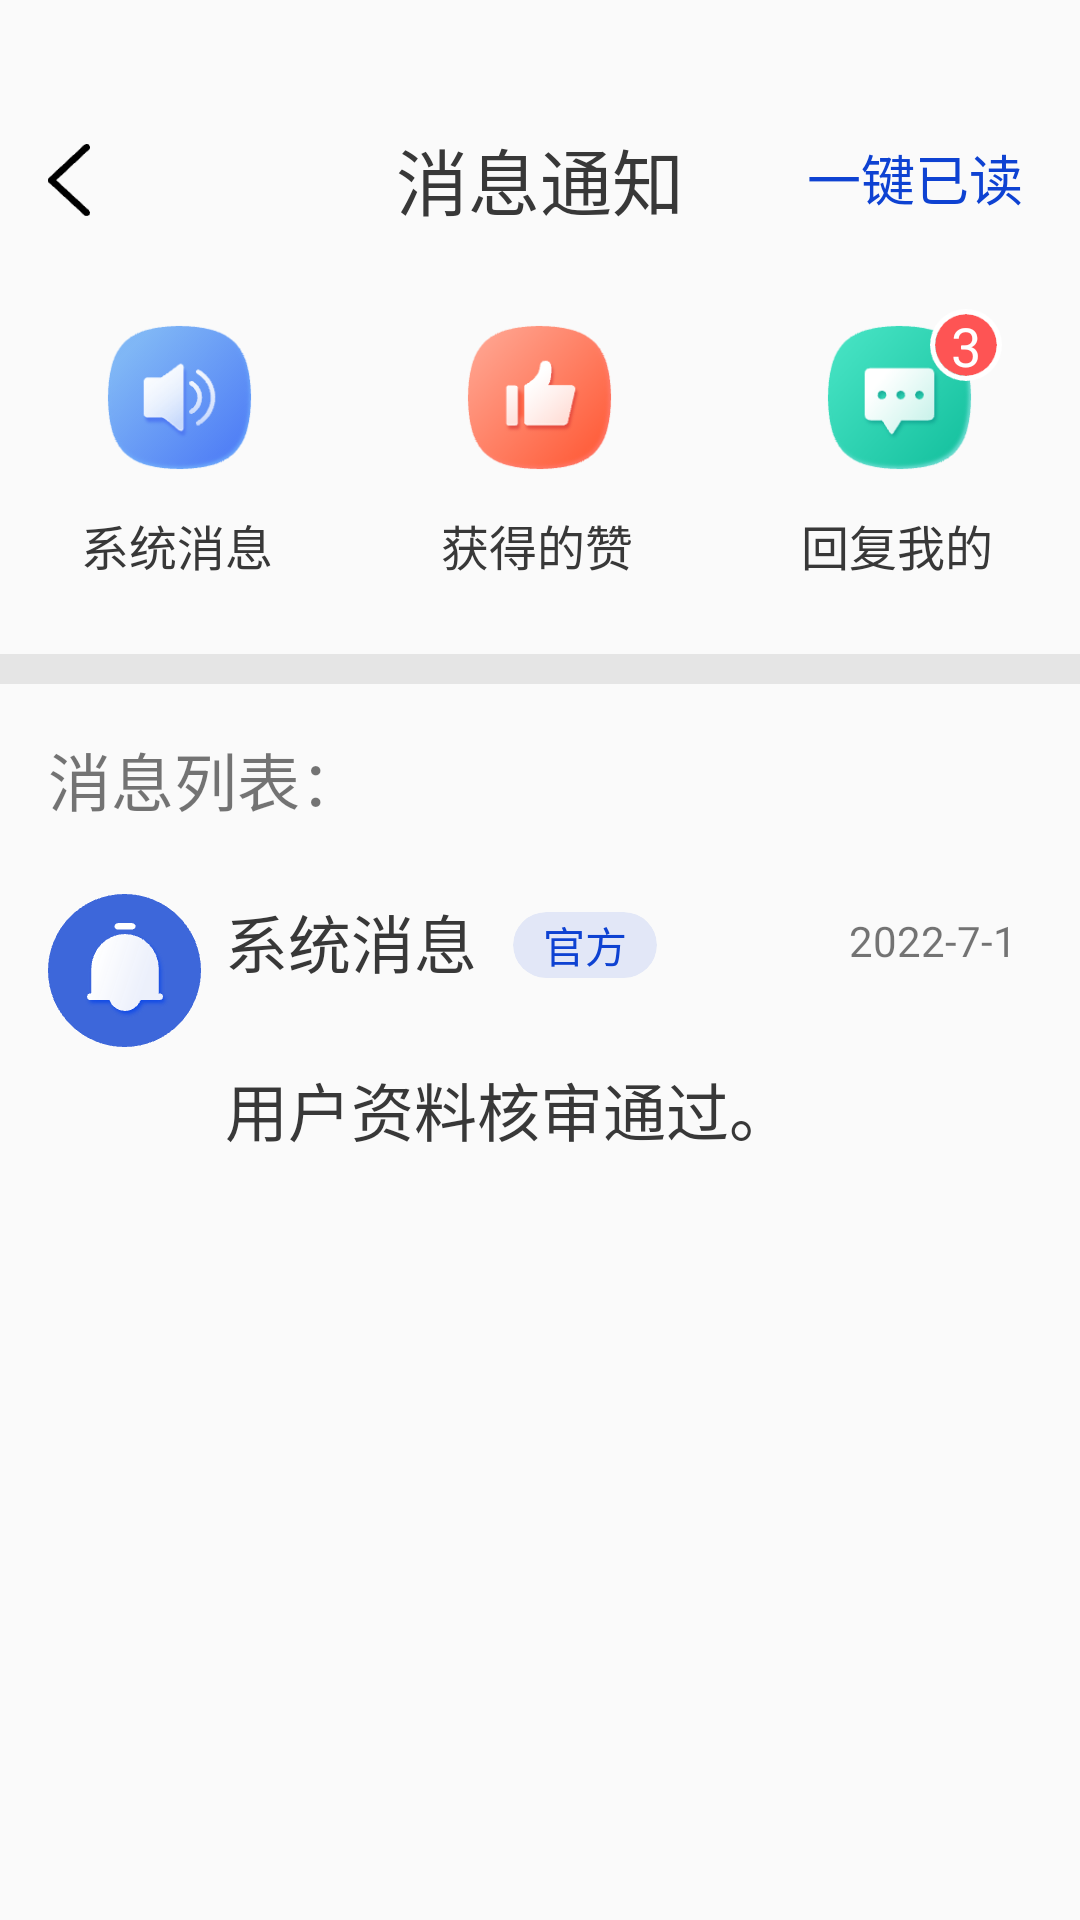

Icons on this 1080 x 1920 Android screen, each with the point to tap as (x=x, y=y):
back: (x=69, y=180)
like: (x=539, y=397)
notification amount circle: (x=966, y=345)
reply: (x=899, y=397)
